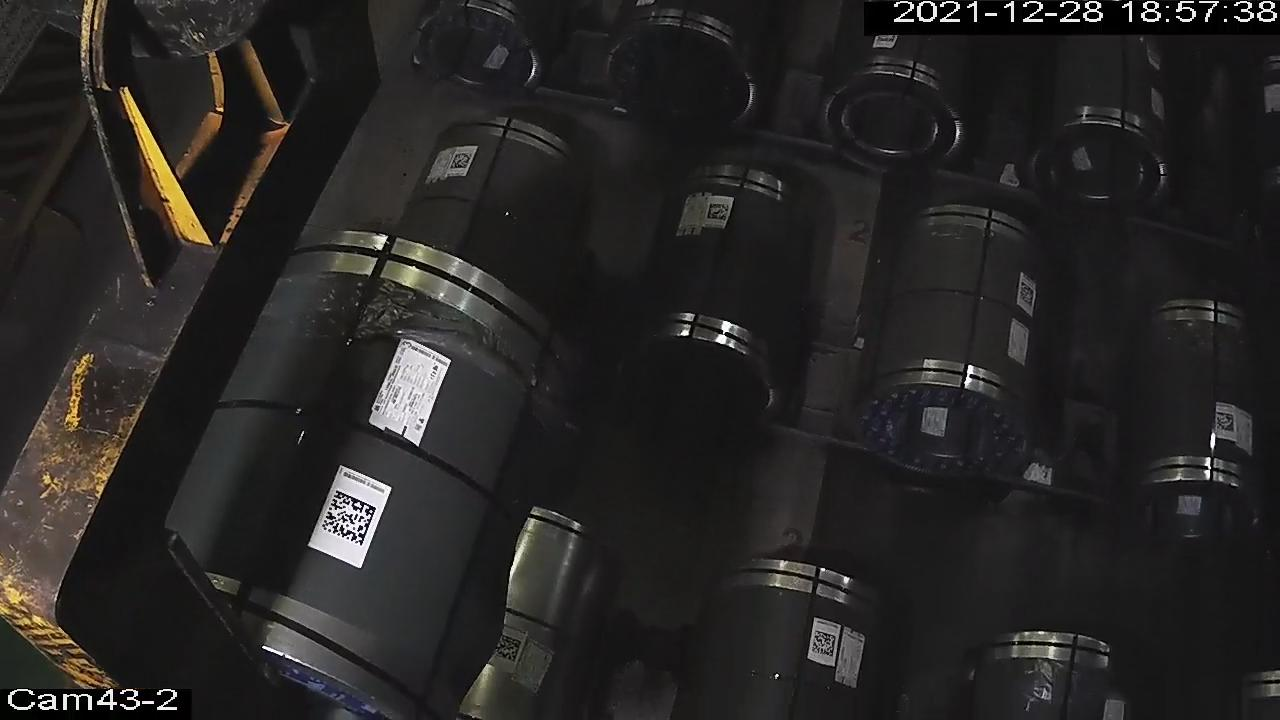data matrix: (317, 487, 381, 549), (810, 629, 840, 661), (705, 201, 733, 225), (1213, 411, 1238, 434), (1019, 279, 1037, 309), (449, 151, 475, 171)
